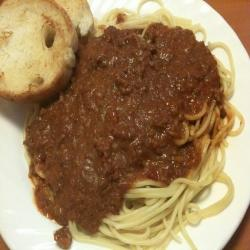bolonese_pasta: (45, 19, 225, 233)
bread: (1, 1, 94, 110)
